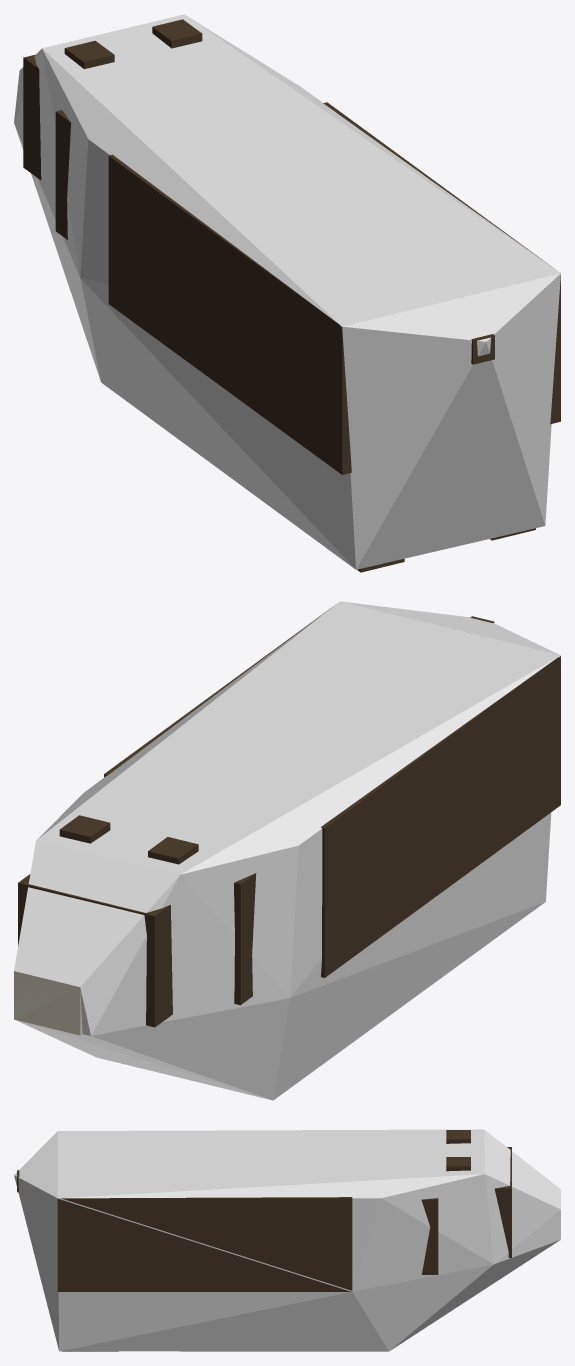
Rendered from boar_valley_0.glb.
3 views of the same model, one above another, from view 1: azimuth 30°, elevation 25°; view 2: azimuth 150°, elevation 25°; view 3: azimuth 270°, elevation 25° (orthographic). The views are drawn at different scales.
Visible parts, largest first — view 1: boar_valley_0_col, boar_valley_0; view 2: boar_valley_0_col, boar_valley_0; view 3: boar_valley_0_col, boar_valley_0.
Part boxes in pixels (x1,y1,x2,y2): boar_valley_0_col: [14, 14, 560, 569]; boar_valley_0: [23, 19, 560, 572]; boar_valley_0_col: [14, 601, 560, 1100]; boar_valley_0: [14, 612, 560, 1035]; boar_valley_0_col: [14, 1129, 560, 1351]; boar_valley_0: [17, 1130, 511, 1351].
Size of what is drawn, in the model's own units: 0.5413 by 0.662 by 1.86.
